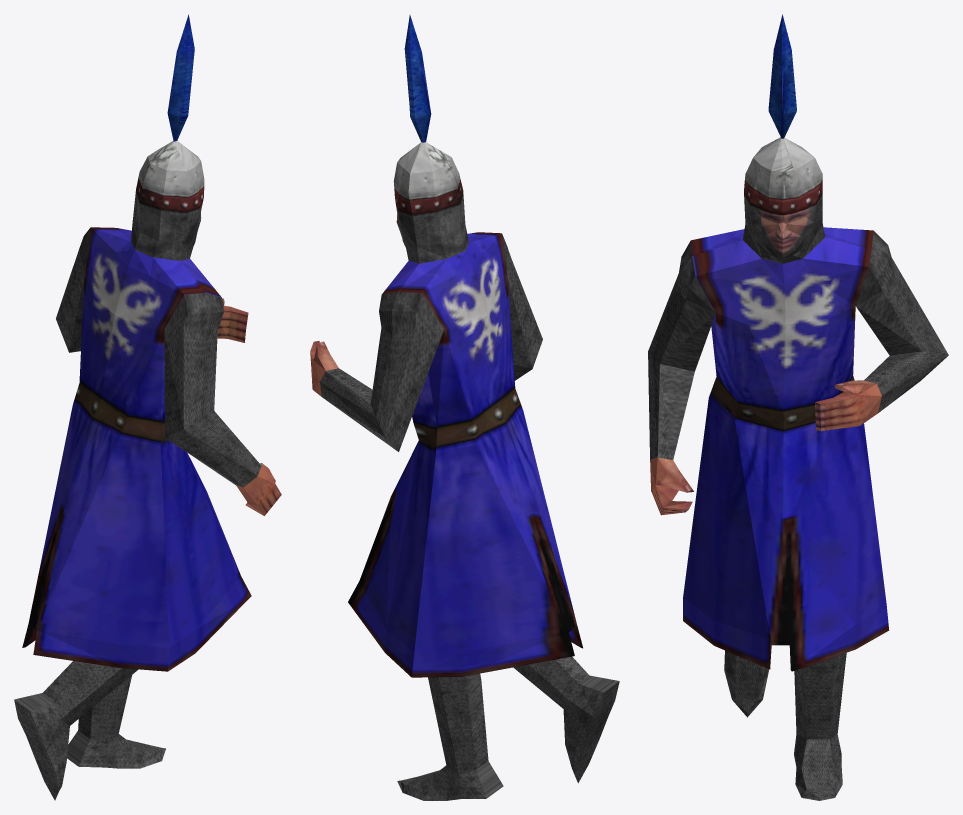
Rendered from guard_run13.obj.
3 renders of one model, left to right at view 1: azimuth 30°, elevation 25°; view 2: azimuth 150°, elevation 25°; view 3: azimuth 270°, elevation 25°, orthographic. The views are drawn at different scales.
Visible parts, largest first — view 1: Object_1; view 2: Object_1; view 3: Object_1.
Boxes of the visible parts, x1,y1,x2,y2 form: Object_1: (14,14,281,800); Object_1: (310,15,619,800); Object_1: (648,14,948,800).
Bounding box in the file's own units: 0.7956 × 2.18 × 0.751.
Materials: 1 (1 with a texture image).
